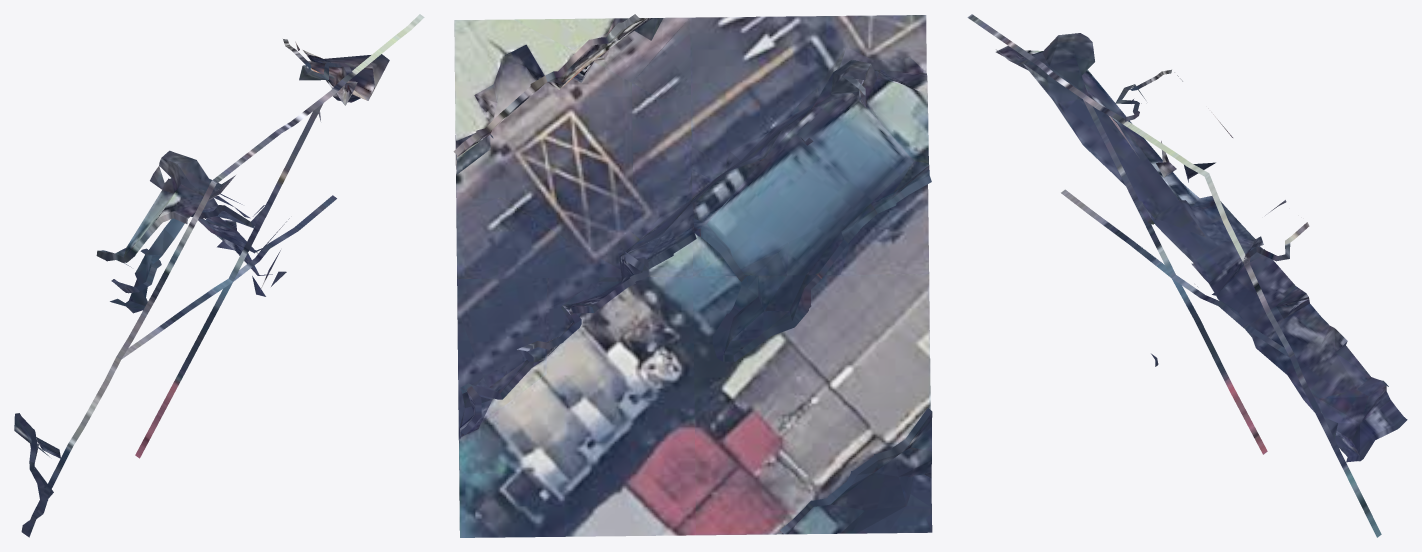
3 renders of one model, left to right at view 1: azimuth 30°, elevation 25°; view 2: azimuth 150°, elevation 25°; view 3: azimuth 270°, elevation 25°, orthographic. The views are drawn at different scales.
Bounding box in the file's own units: 38.88 × 37.44 × 34.07.
1 material, 1 textured.
